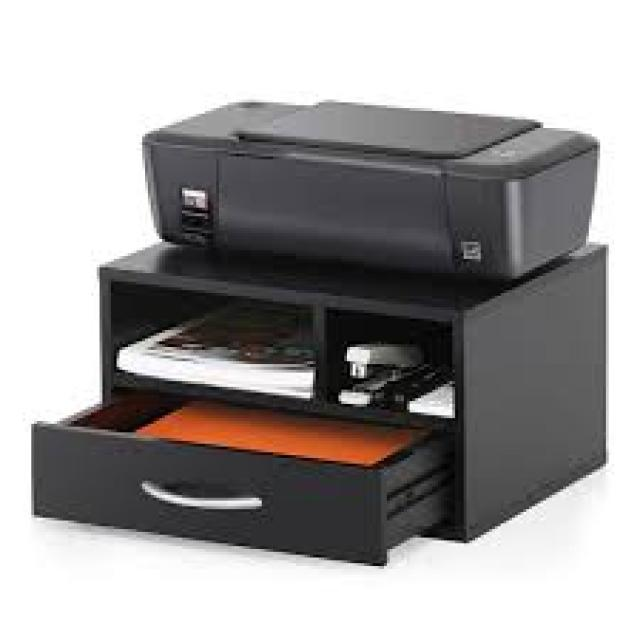printer: (140, 96, 600, 282)
